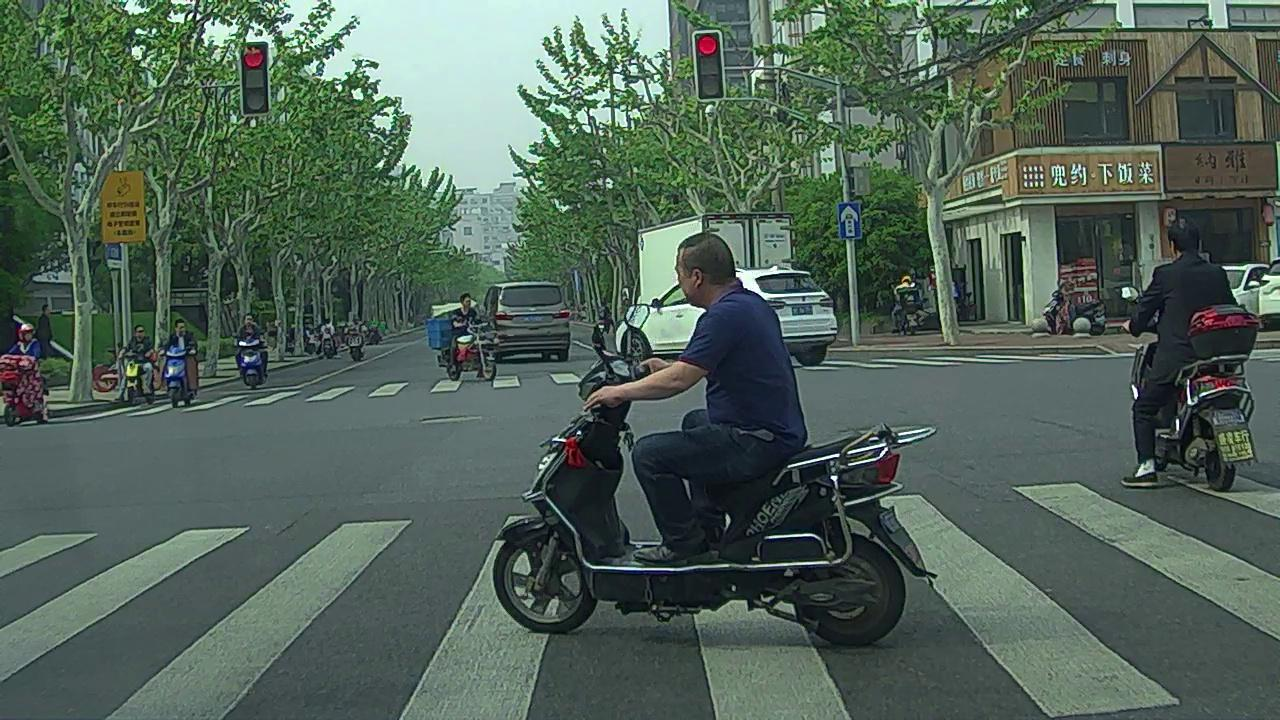traffic_light: (693, 33, 723, 101), (242, 43, 268, 111)
